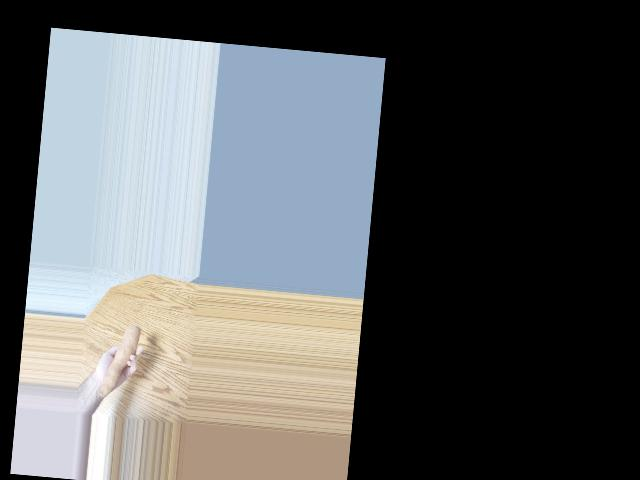sweet_potato: (97, 325, 135, 399)
